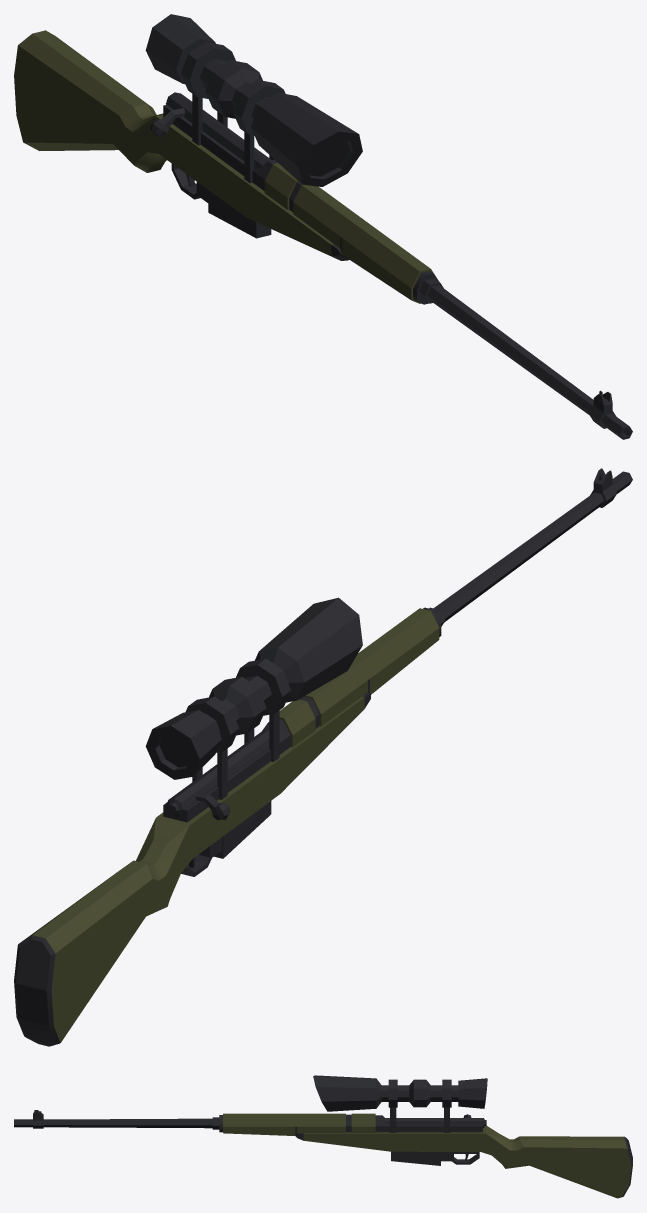
The model's file is LPWarPack_ScoutSniper.fbx.
The picture shows the model from 3 angles, top to bottom: view 1: azimuth 30°, elevation 25°; view 2: azimuth 150°, elevation 25°; view 3: azimuth 270°, elevation 25°; orthographic projection. The views are drawn at different scales.
Parts seen in each view (by area): view 1: ScoutSniper; view 2: ScoutSniper; view 3: ScoutSniper.
Boxes of the visible parts, bbox=[...] form: ScoutSniper: bbox=[14, 14, 632, 439]; ScoutSniper: bbox=[14, 468, 632, 1046]; ScoutSniper: bbox=[14, 1075, 632, 1198].
Size of the model in its own units: 8.85 by 27.67 by 129.
